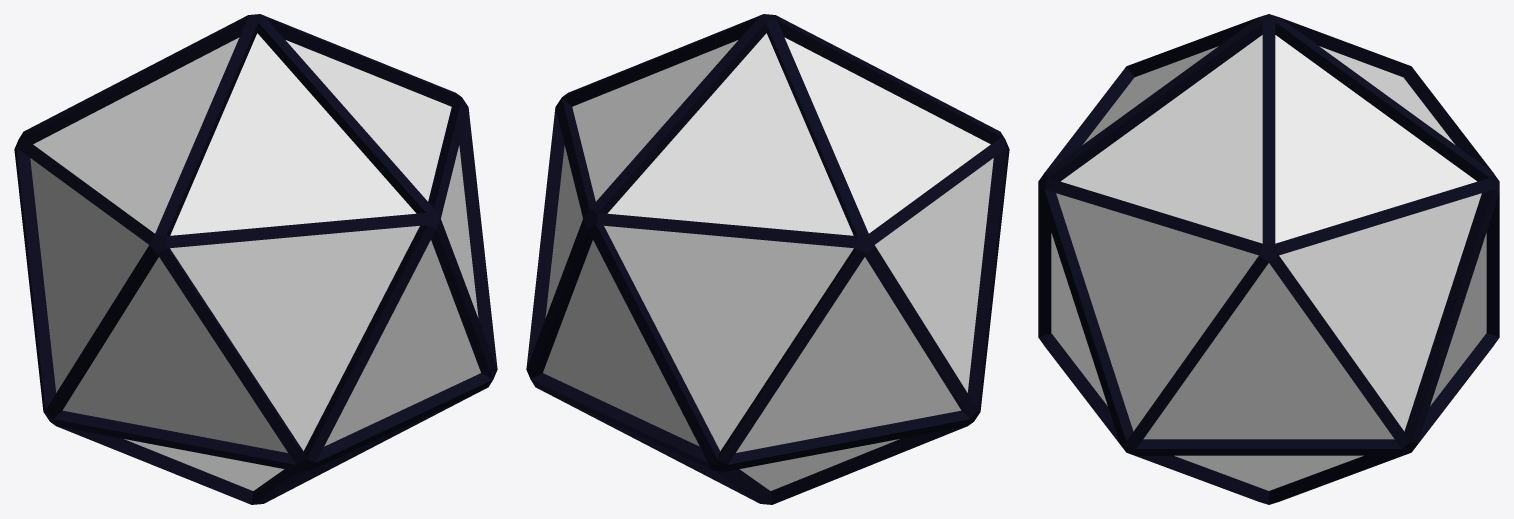
The model's file is Orbe.fbx.
The picture shows the model from 3 angles, left to right: view 1: azimuth 30°, elevation 25°; view 2: azimuth 150°, elevation 25°; view 3: azimuth 270°, elevation 25°; orthographic projection.
Parts seen in each view (by area): view 1: Icosphere.001; view 2: Icosphere.001; view 3: Icosphere.001.
Boxes of the visible parts, x1,y1,x2,y2 form: Icosphere.001: [14, 14, 497, 504]; Icosphere.001: [526, 14, 1009, 504]; Icosphere.001: [1038, 14, 1499, 504].
Size of the model in its own units: 25.66 by 28.14 by 24.41.
